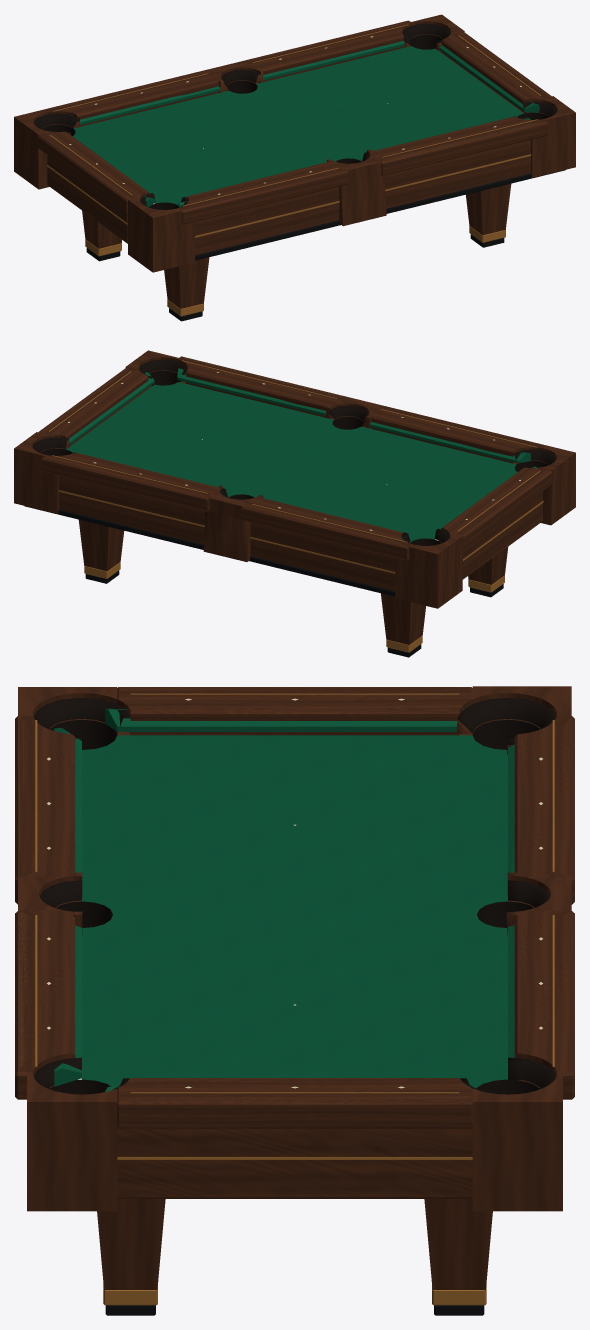
File: Billiard_Nocturne.glb
3 renders of one model, top to bottom at view 1: azimuth 30°, elevation 25°; view 2: azimuth 150°, elevation 25°; view 3: azimuth 270°, elevation 25°, orthographic. The views are drawn at different scales.
Parts seen in each view (by area): view 1: Billiard_Nocturne_Table; view 2: Billiard_Nocturne_Table; view 3: Billiard_Nocturne_Table.
Part boxes in pixels (x1,y1,x2,y2): Billiard_Nocturne_Table: (14, 14, 575, 321); Billiard_Nocturne_Table: (14, 350, 575, 657); Billiard_Nocturne_Table: (15, 686, 574, 1315).
Bounding box in the file's own units: 17.64 × 5.23 × 10.02.
1 material, 1 textured.
